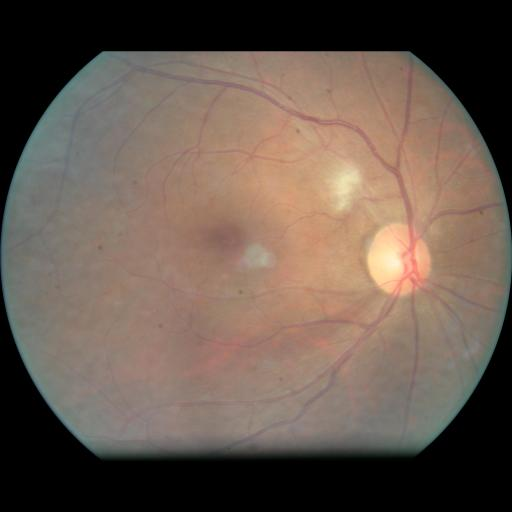Optic Cup: (383, 245, 415, 275)
Optic Disc: (367, 222, 431, 296)
